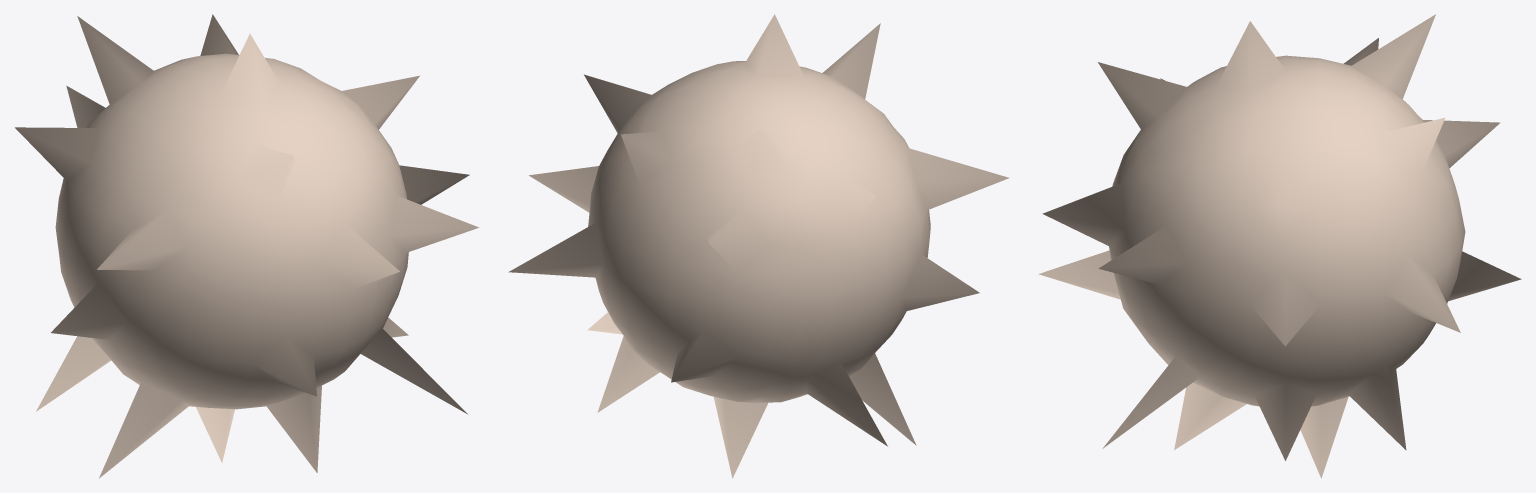
The model's file is GlobuloBlanco.fbx.
3 views of the same model, side by side, from view 1: azimuth 30°, elevation 25°; view 2: azimuth 150°, elevation 25°; view 3: azimuth 270°, elevation 25° (orthographic). The views are drawn at different scales.
Parts seen in each view (by area): view 1: sphere; view 2: sphere; view 3: sphere.
Part boxes in pixels (x1,y1,x2,y2): sphere: [15, 14, 478, 478]; sphere: [508, 14, 1008, 478]; sphere: [1038, 14, 1521, 478].
Bounding box in the file's own units: 1791 × 1765 × 1703.
